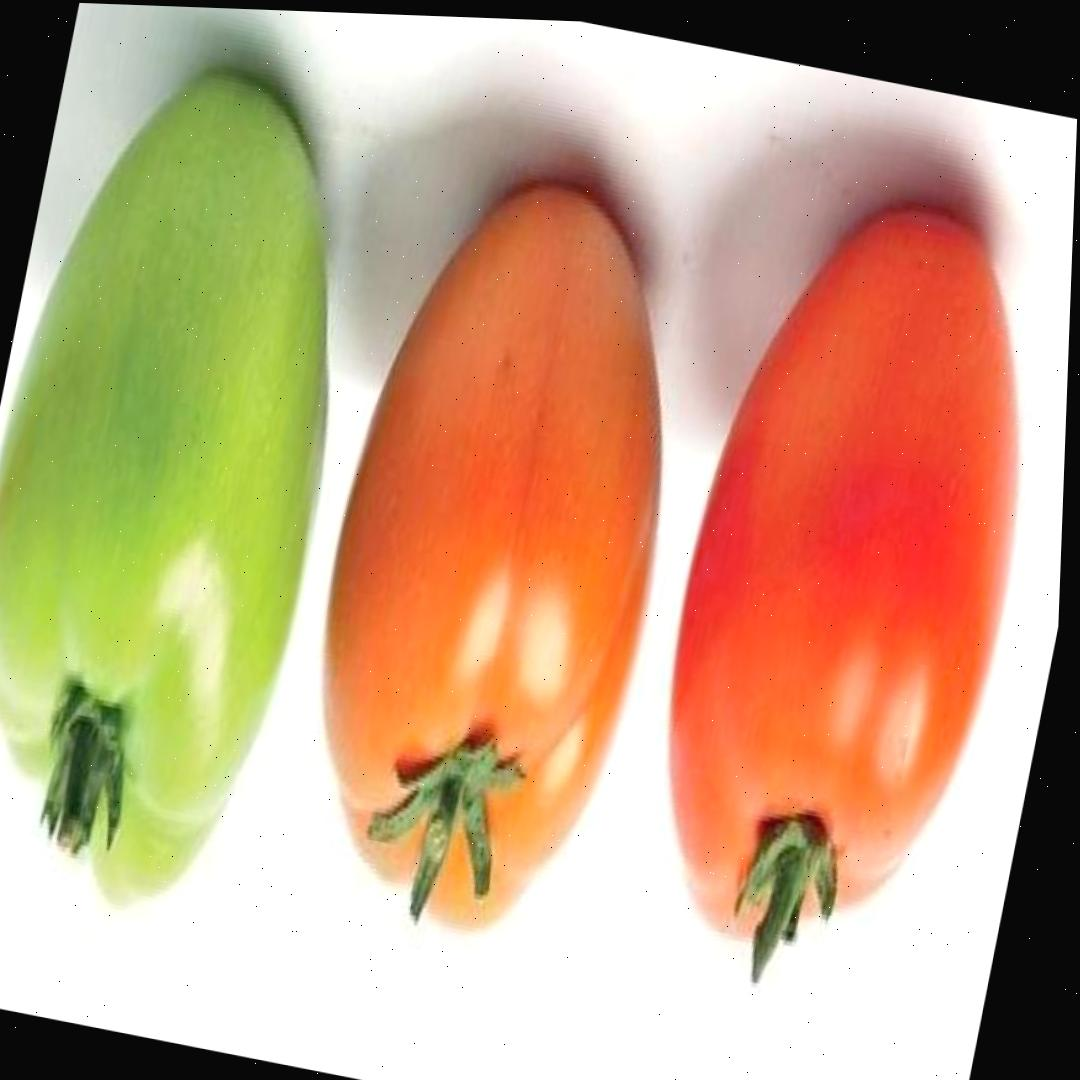matang: (612, 158, 1075, 992)
mentah: (0, 34, 398, 937)
setengah_matang: (262, 150, 727, 971)
